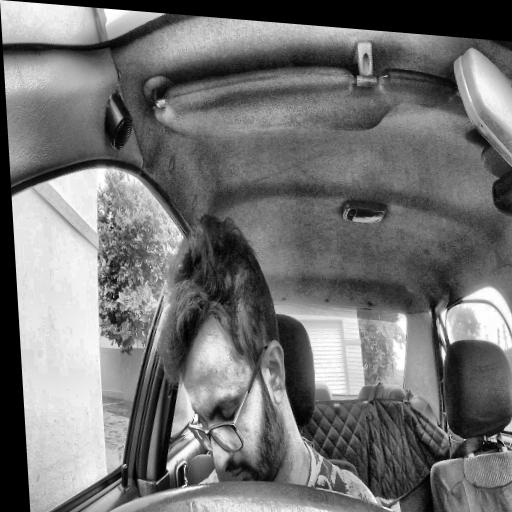drowsy: (149, 206, 293, 489)
